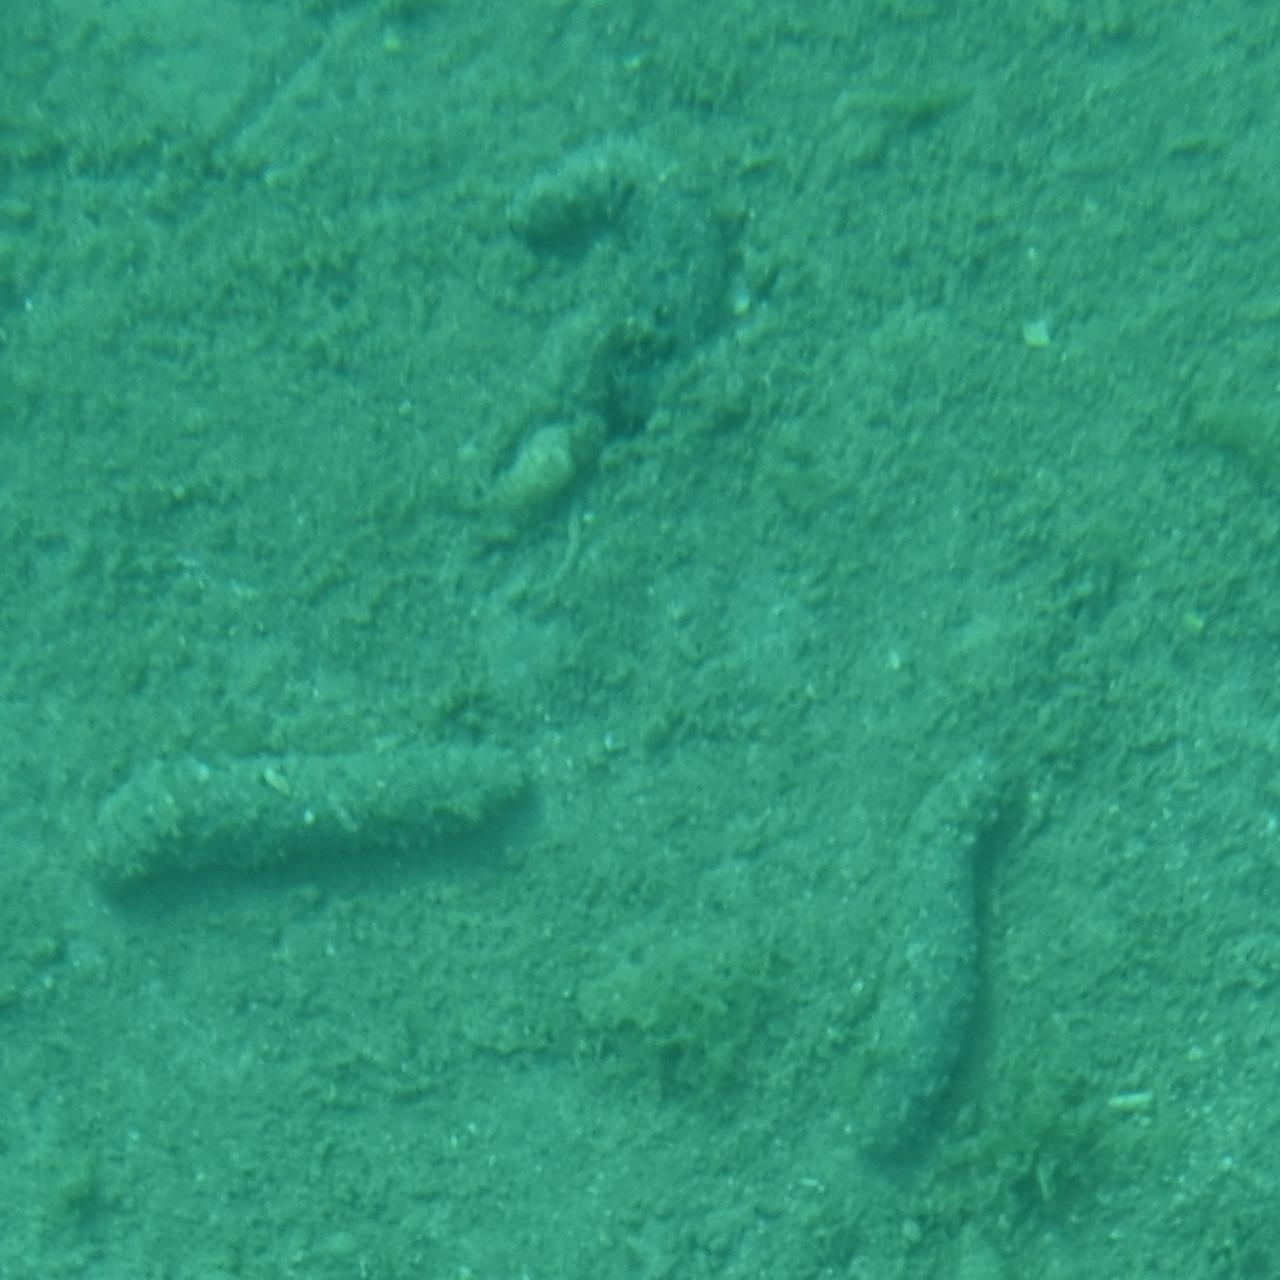Holothuria tubulosa: (844, 760, 1047, 1211), (98, 733, 571, 924), (512, 132, 743, 459)
